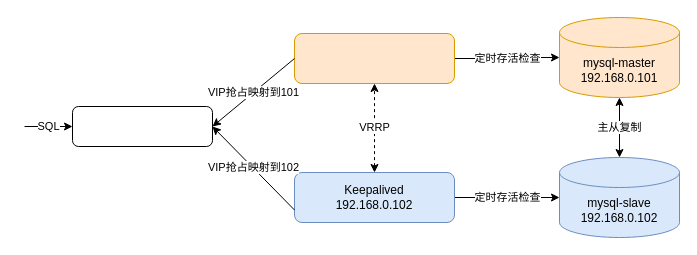
This 697x255 diagram has some shape labels left out. The centre of each missing label's shape, as x and y in pixels:
Keepalived 192.168.0.101: the point at 374,58
VIP 192.168.0.100: the point at 142,126
